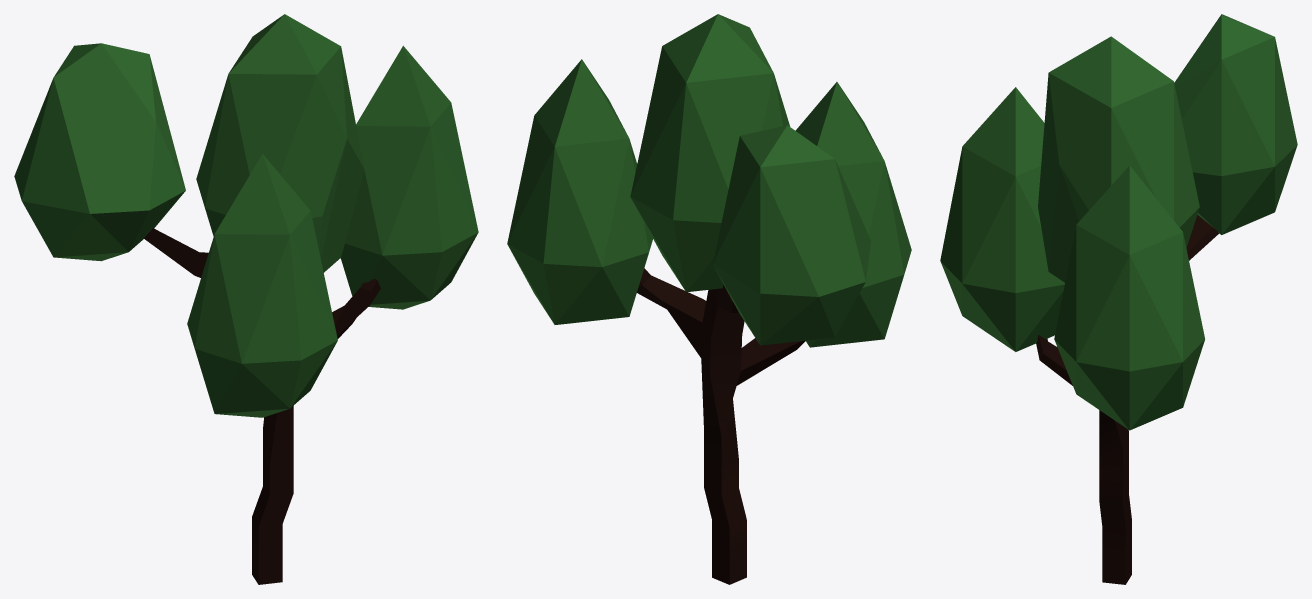
The model's file is Tree02.FBX.
3 renders of one model, left to right at view 1: azimuth 30°, elevation 25°; view 2: azimuth 150°, elevation 25°; view 3: azimuth 270°, elevation 25°, orthographic. The views are drawn at different scales.
Parts seen in each view (by area): view 1: Tree 02; view 2: Tree 02; view 3: Tree 02.
Part boxes in pixels (box(x1,y1,x2,y2)): Tree 02: box(14, 14, 478, 584); Tree 02: box(507, 14, 911, 584); Tree 02: box(940, 14, 1297, 584).
Bounding box in the file's own units: 106 × 142 × 83.87.
